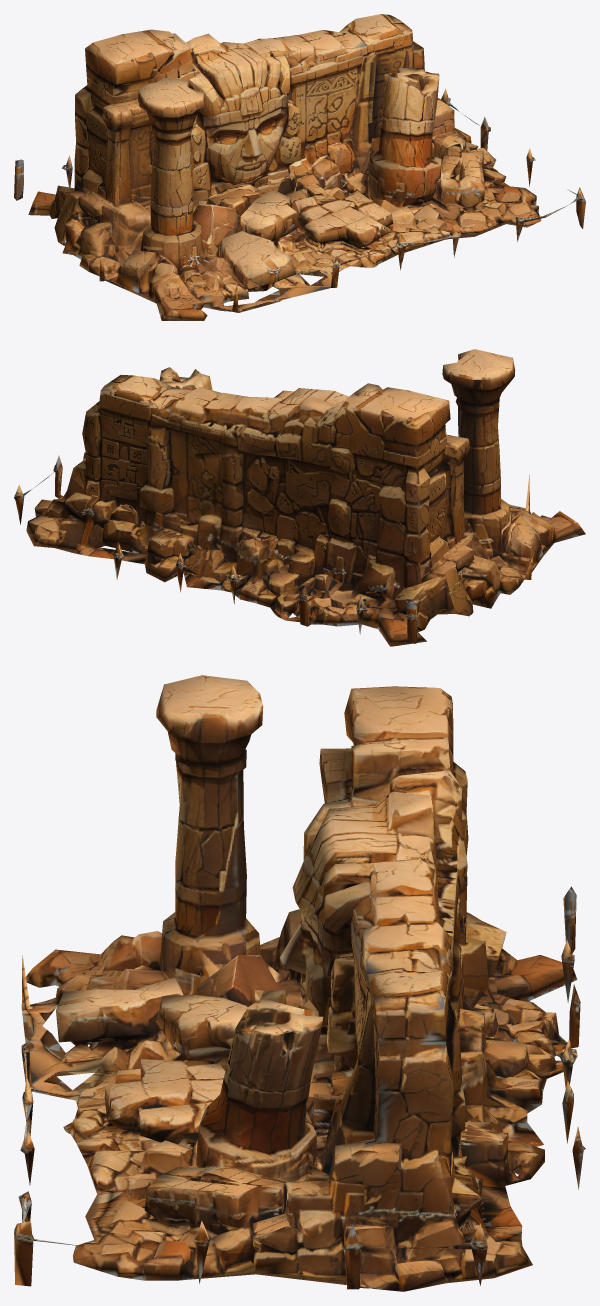
The model's file is EX_Exc_RuinWall.fbx.
The picture shows the model from 3 angles, top to bottom: view 1: azimuth 30°, elevation 25°; view 2: azimuth 150°, elevation 25°; view 3: azimuth 270°, elevation 25°; orthographic projection. The views are drawn at different scales.
Visible parts, largest first — view 1: texture_mapping; view 2: texture_mapping; view 3: texture_mapping.
Boxes of the visible parts, x1,y1,x2,y2 form: texture_mapping: (14, 14, 585, 320); texture_mapping: (14, 349, 585, 646); texture_mapping: (14, 675, 585, 1291).
Bounding box in the file's own units: 0.964 × 0.6797 × 0.403.
1 material, 1 textured.
